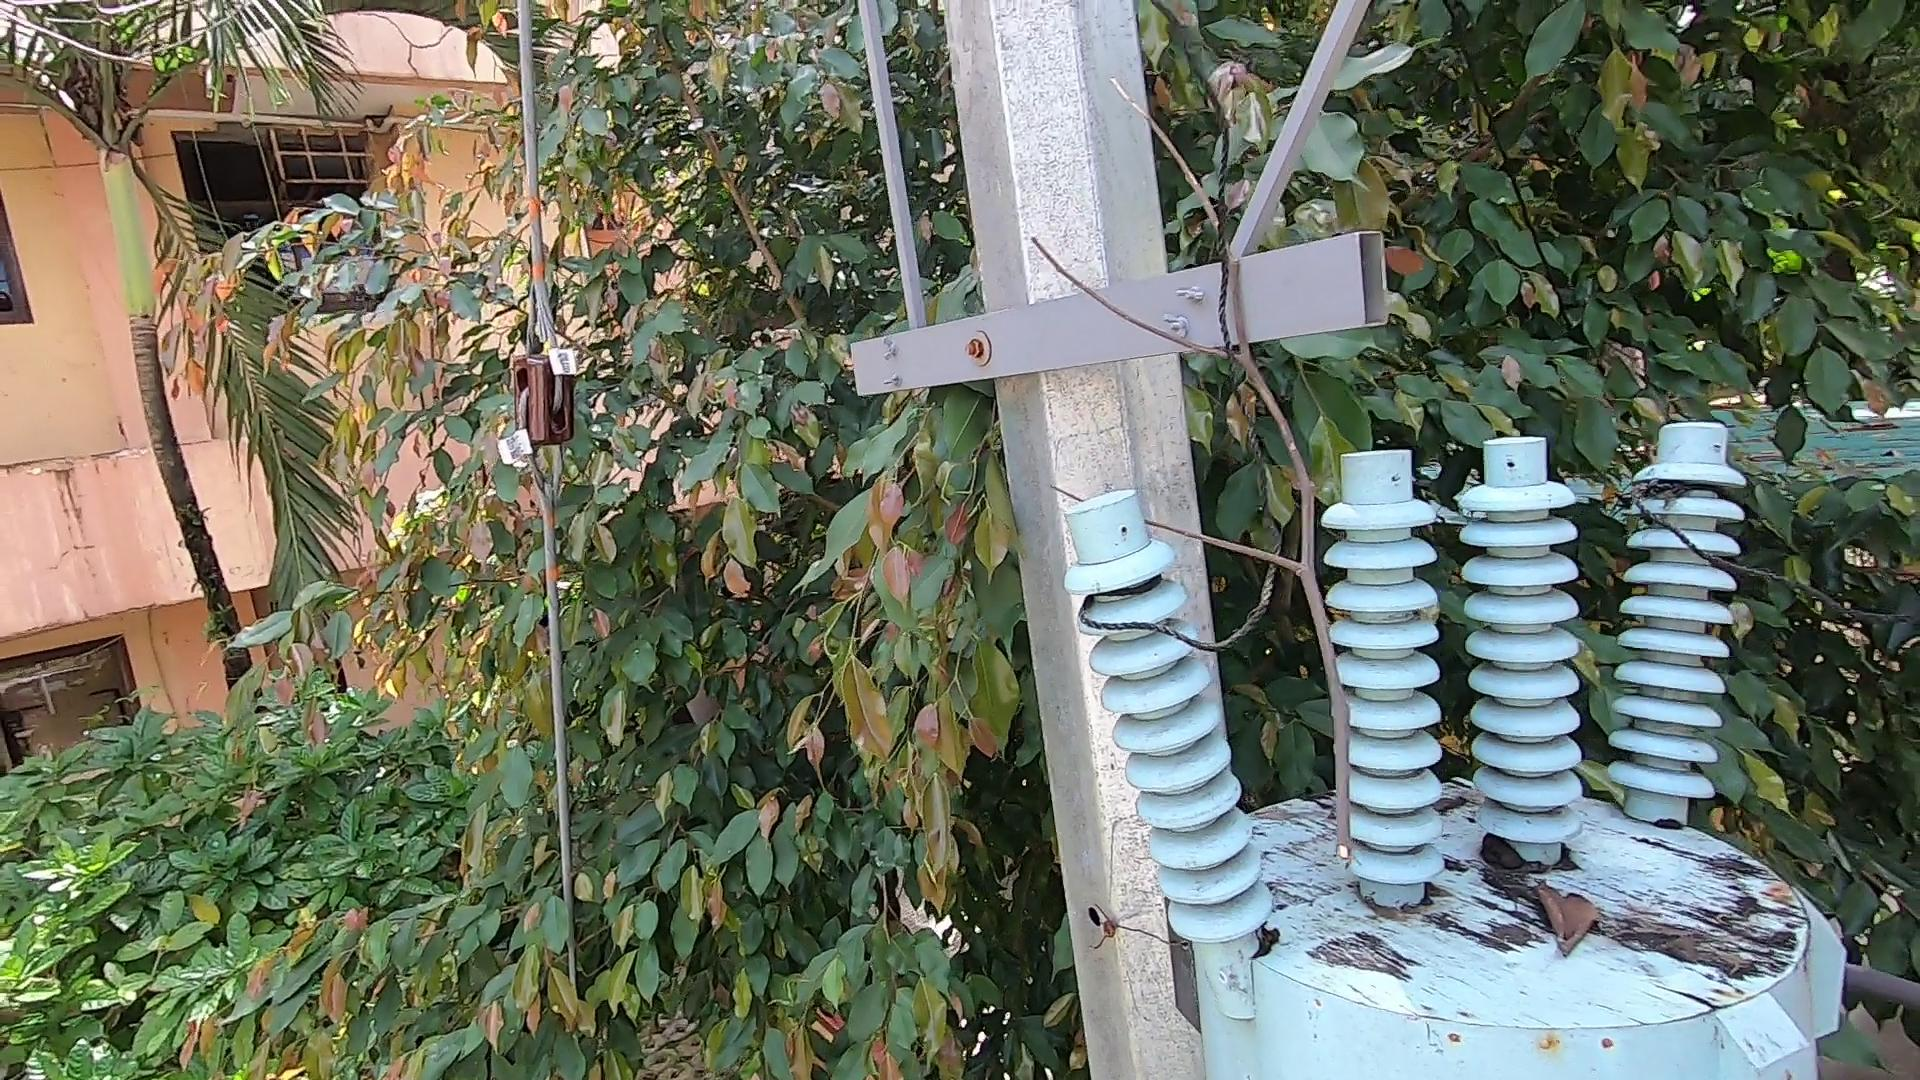leaf: (1524, 884, 1606, 967), (1476, 827, 1526, 873)
tree branch: (1019, 44, 1386, 872)
